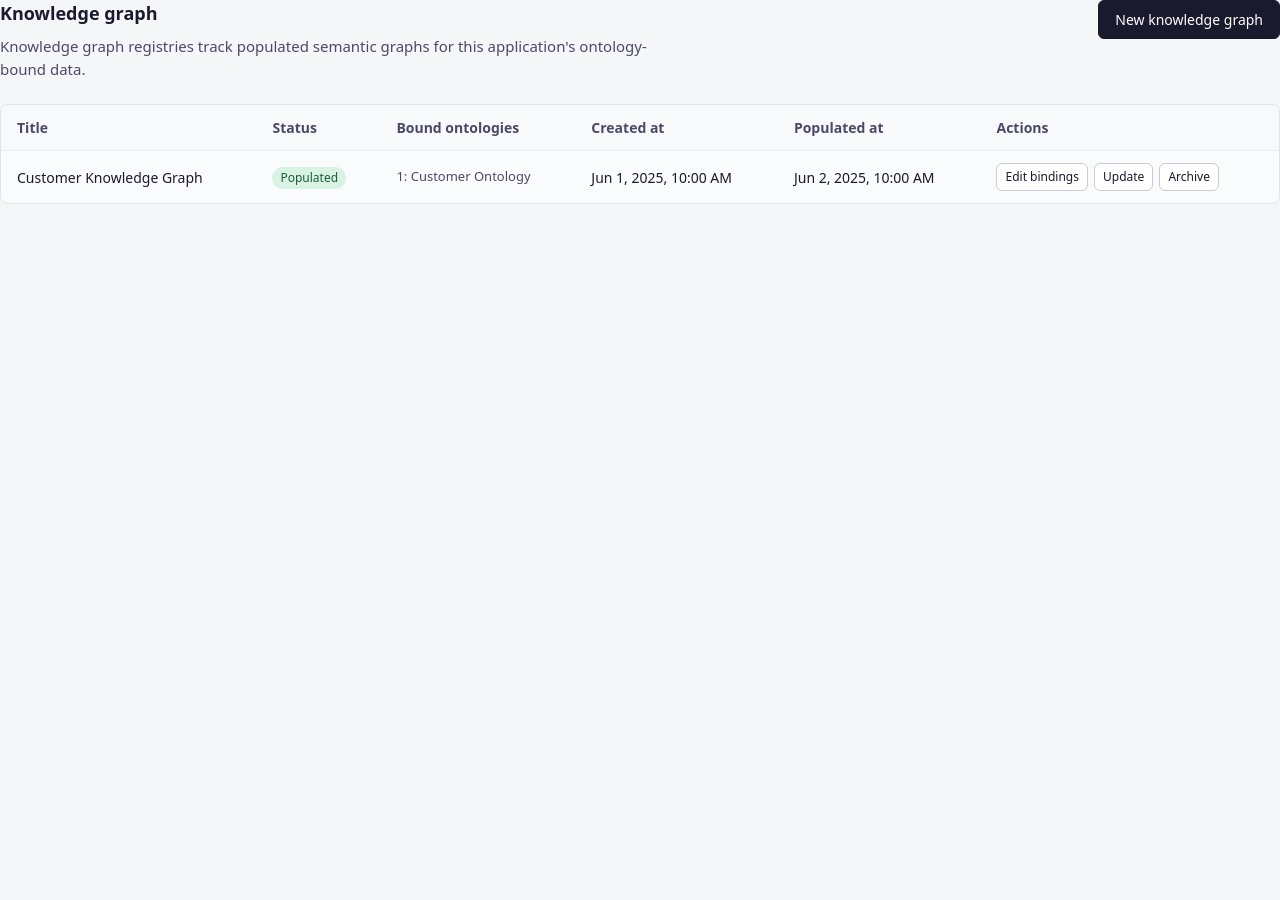
Test case: KnowledgeGraphsPage › edits KG ontology bindings via dialog
Click the button "Edit bindings": (1042, 177) [996, 163, 1088, 191]
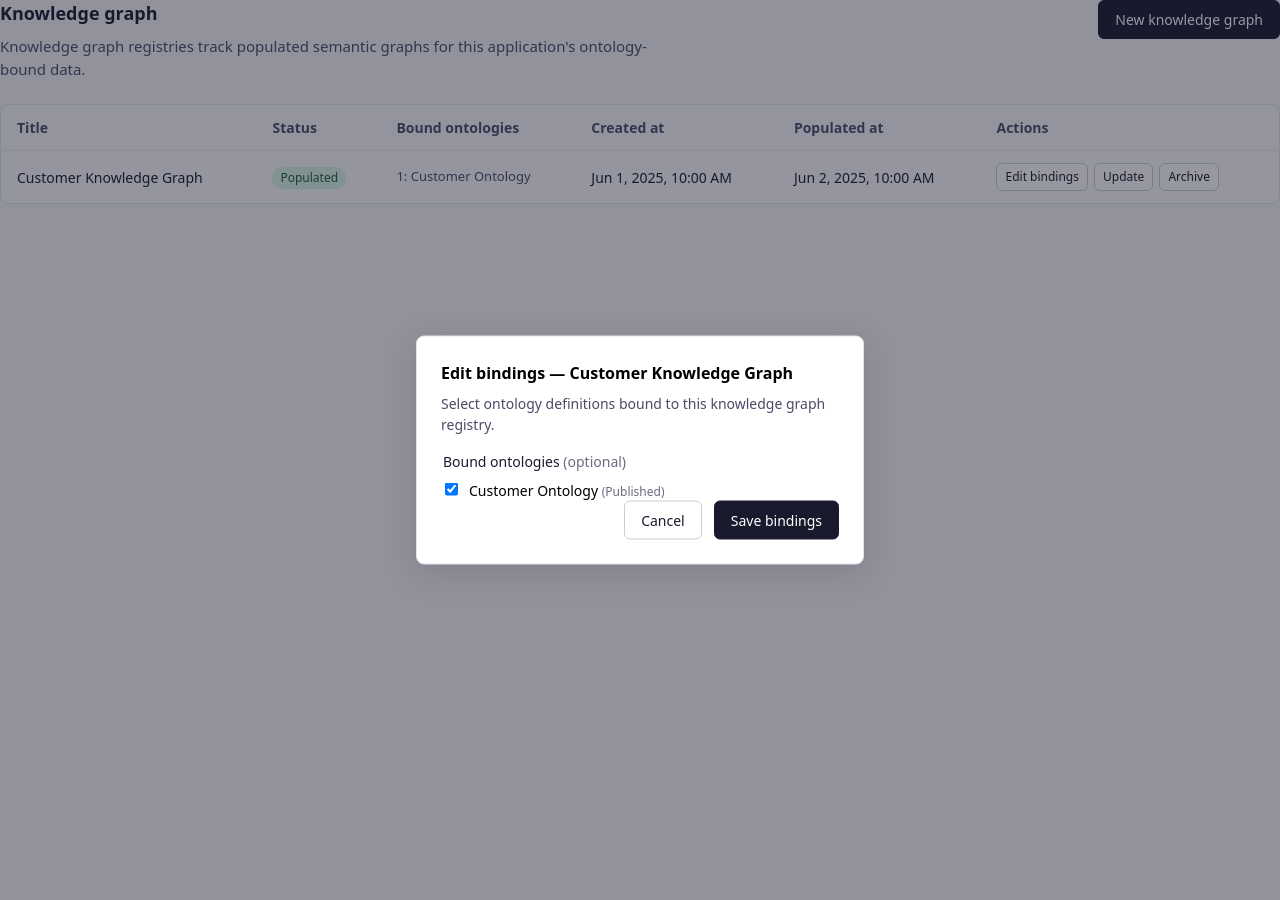
Click the checkbox labelled "Customer Ontology (Published)": (452, 489) [445, 482, 458, 496]
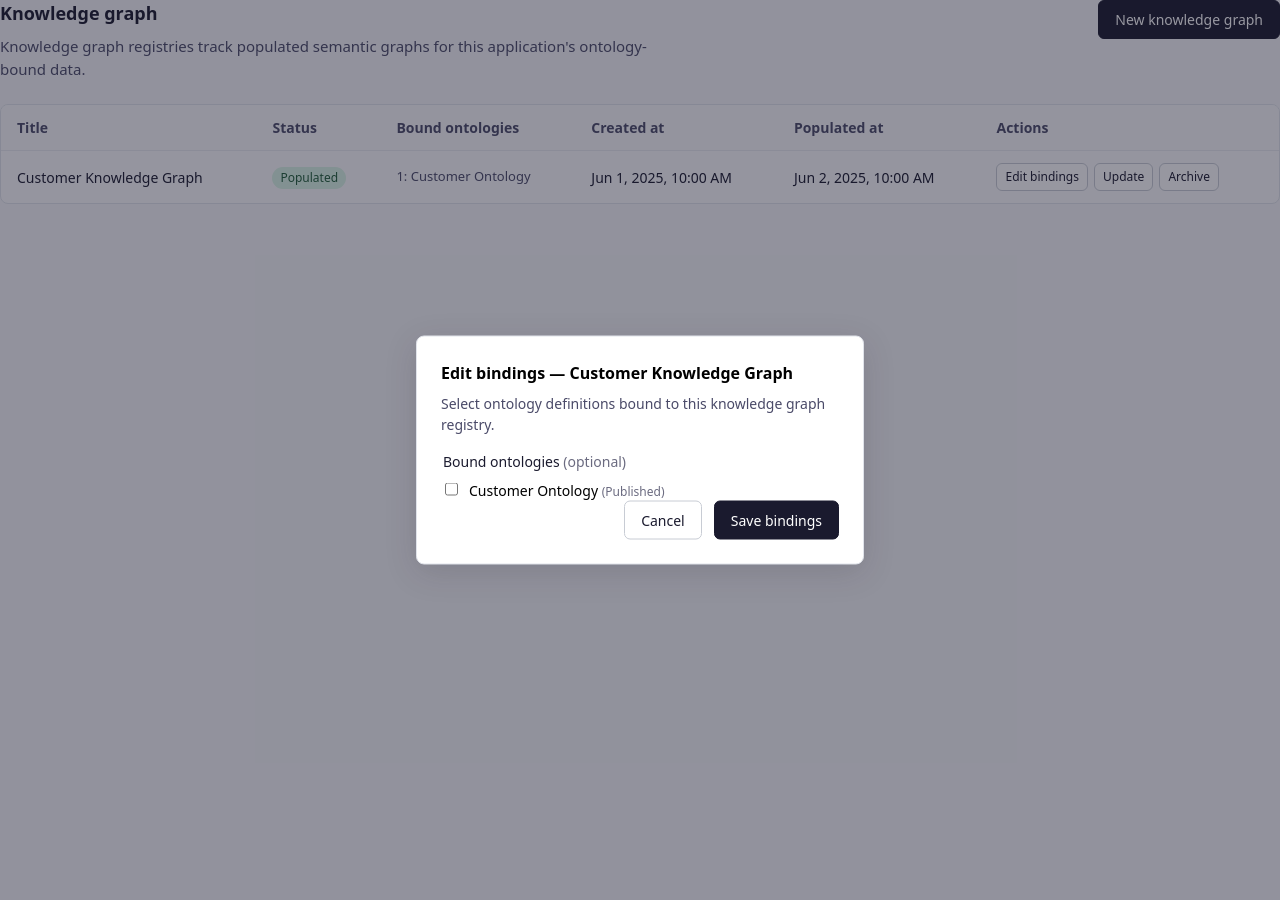
Click the button "Save bindings": (776, 520) [714, 500, 839, 540]
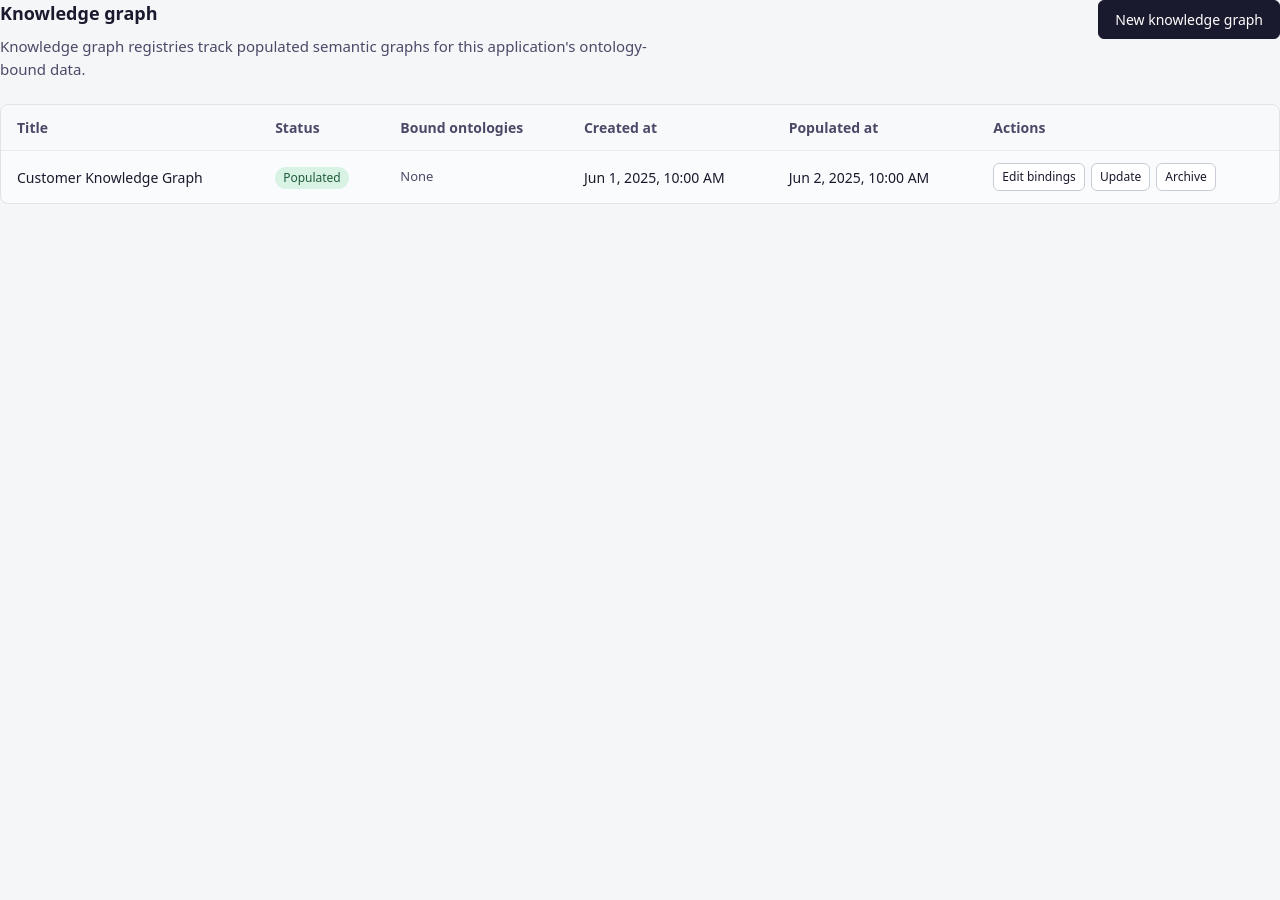
Result: the text "None" is shown at [384, 150, 568, 203]
